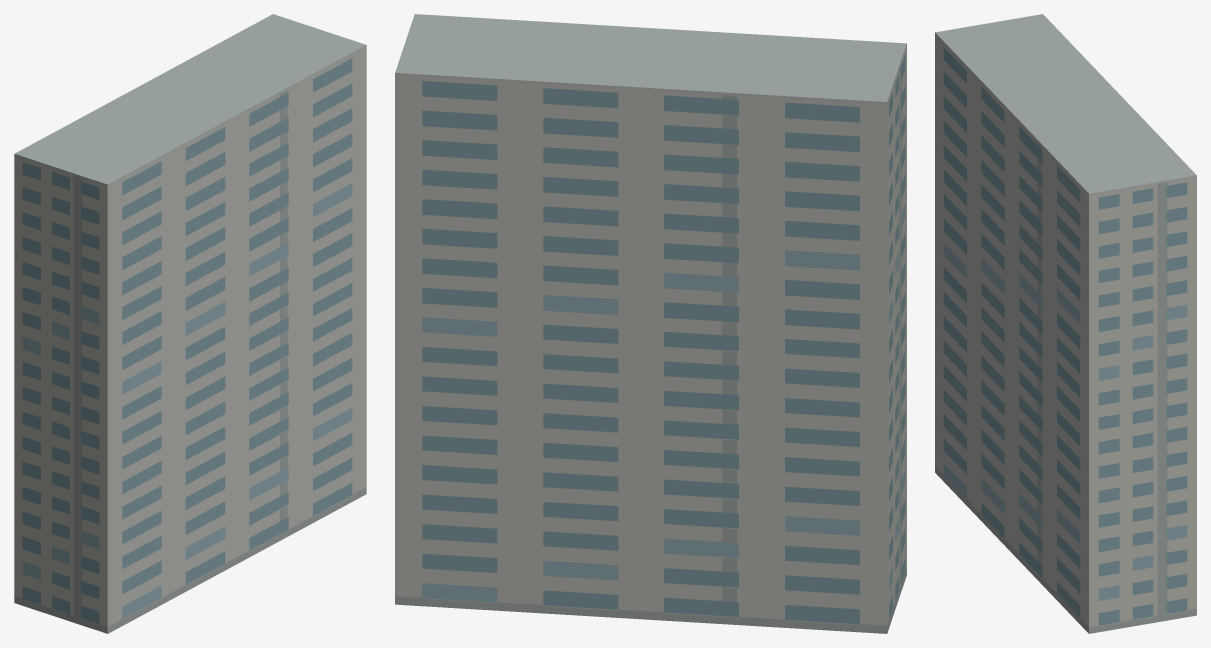
The model's file is residential-b817bc5a-1a2a-4fef-9002-5b9468a9eb6a.glb.
3 views of the same model, side by side, from view 1: azimuth 30°, elevation 25°; view 2: azimuth 150°, elevation 25°; view 3: azimuth 270°, elevation 25° (orthographic). The views are drawn at different scales.
Visible parts, largest first — view 1: residential-b817bc5a-1a2a-4fef-9002-5b9468a9eb6a.tmp; view 2: residential-b817bc5a-1a2a-4fef-9002-5b9468a9eb6a.tmp; view 3: residential-b817bc5a-1a2a-4fef-9002-5b9468a9eb6a.tmp.
Part boxes in pixels (box(x1,y1,x2,y2)): residential-b817bc5a-1a2a-4fef-9002-5b9468a9eb6a.tmp: box(14, 14, 366, 633); residential-b817bc5a-1a2a-4fef-9002-5b9468a9eb6a.tmp: box(395, 14, 906, 633); residential-b817bc5a-1a2a-4fef-9002-5b9468a9eb6a.tmp: box(935, 14, 1196, 633).
Bounding box in the file's own units: 42.01 × 48 × 25.87.
